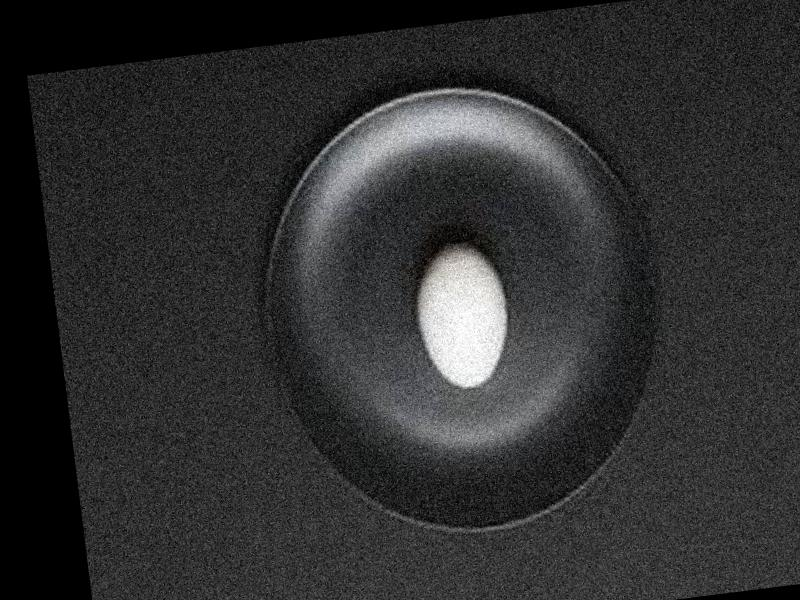Eggs: (408, 241, 515, 392)
